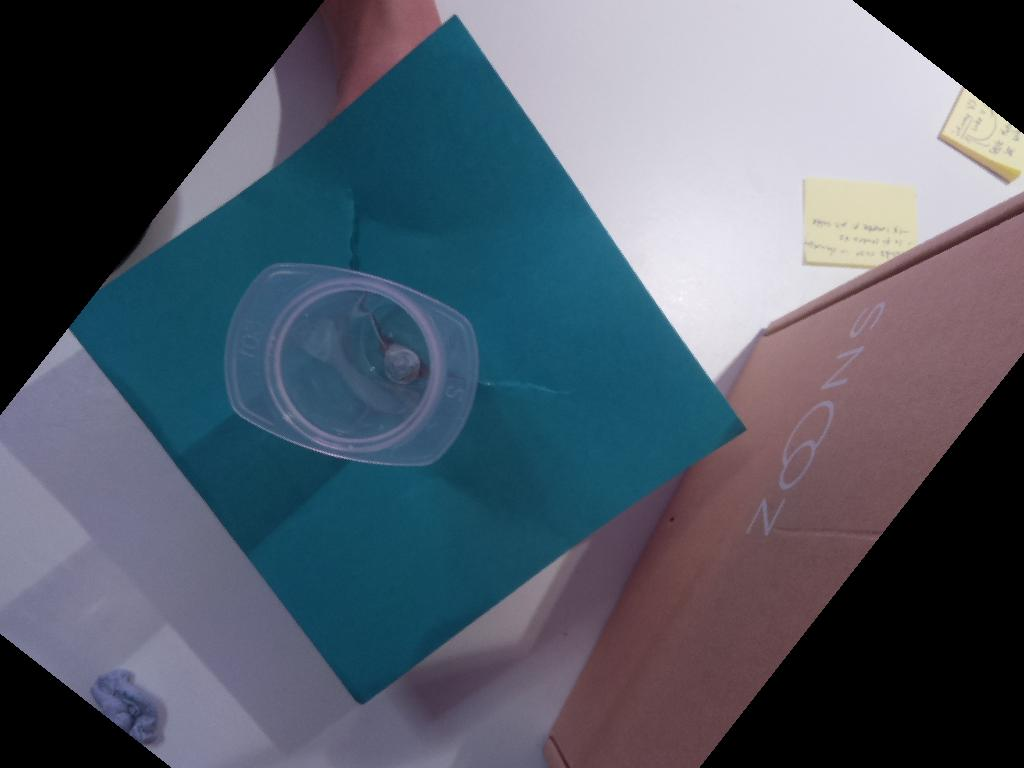clean: (221, 263, 480, 470)
